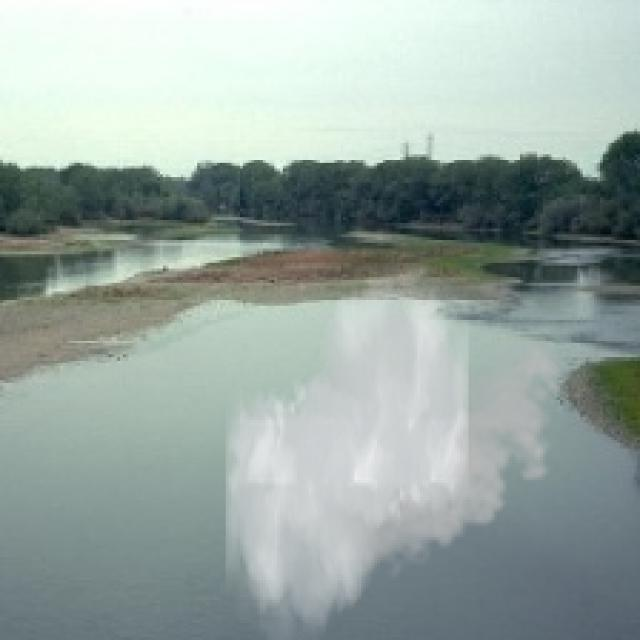Smoke: (226, 262, 574, 638)
